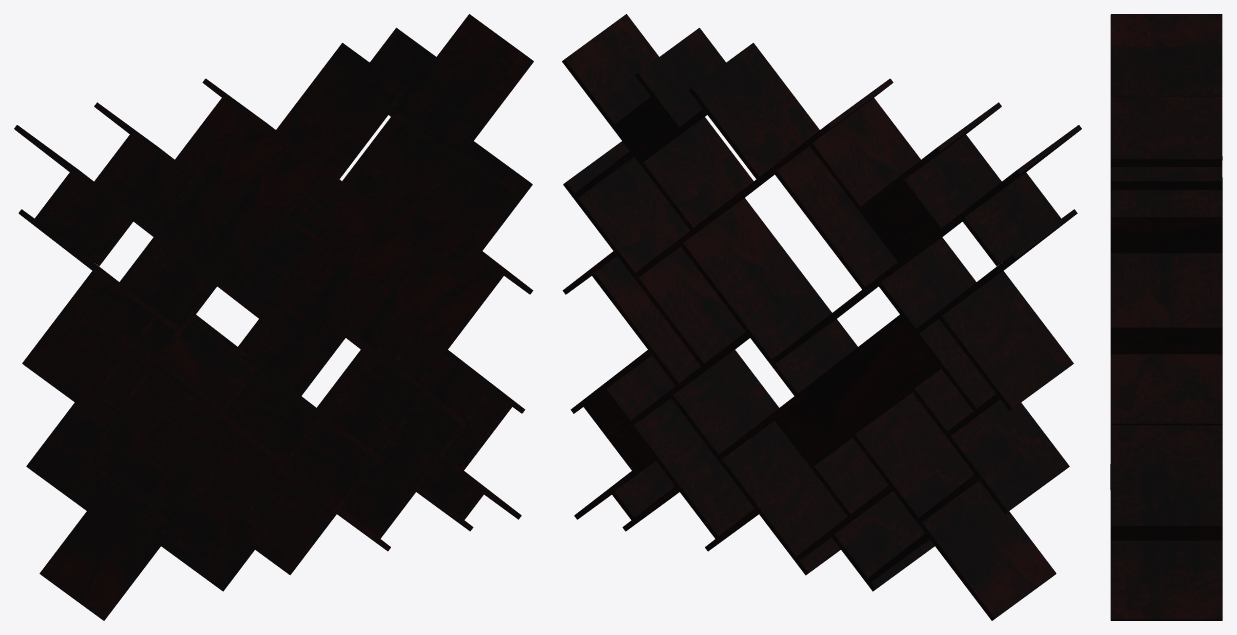
The model's file is shelf.fbx.
3 views of the same model, side by side, from view 1: azimuth 30°, elevation 25°; view 2: azimuth 150°, elevation 25°; view 3: azimuth 270°, elevation 25° (orthographic). The views are drawn at different scales.
Visible parts, largest first — view 1: shelveBrown; view 2: shelveBrown; view 3: shelveBrown.
Boxes of the visible parts, bbox=[...] form: shelveBrown: bbox=[14, 14, 533, 620]; shelveBrown: bbox=[562, 14, 1081, 620]; shelveBrown: bbox=[1110, 14, 1222, 620].
Size of the model in its own units: 1275 by 1227 by 299.
1 material, 1 textured.
